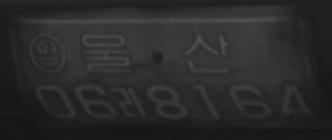0: (33, 83, 76, 120)
1: (187, 82, 221, 120)
4: (280, 80, 317, 121)
6: (227, 82, 273, 120), (77, 82, 116, 119)
8: (149, 81, 187, 120)
라: (117, 84, 149, 121)
영: (29, 31, 67, 74)
울산_D: (80, 30, 231, 77)
